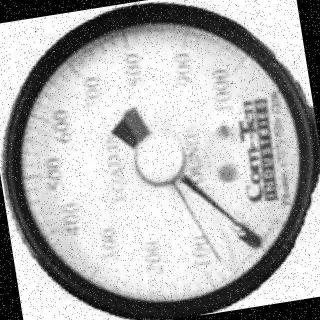gauge: (0, 0, 320, 320), (128, 128, 191, 191), (226, 211, 286, 261), (216, 42, 266, 90), (234, 220, 257, 242), (209, 247, 227, 267)
